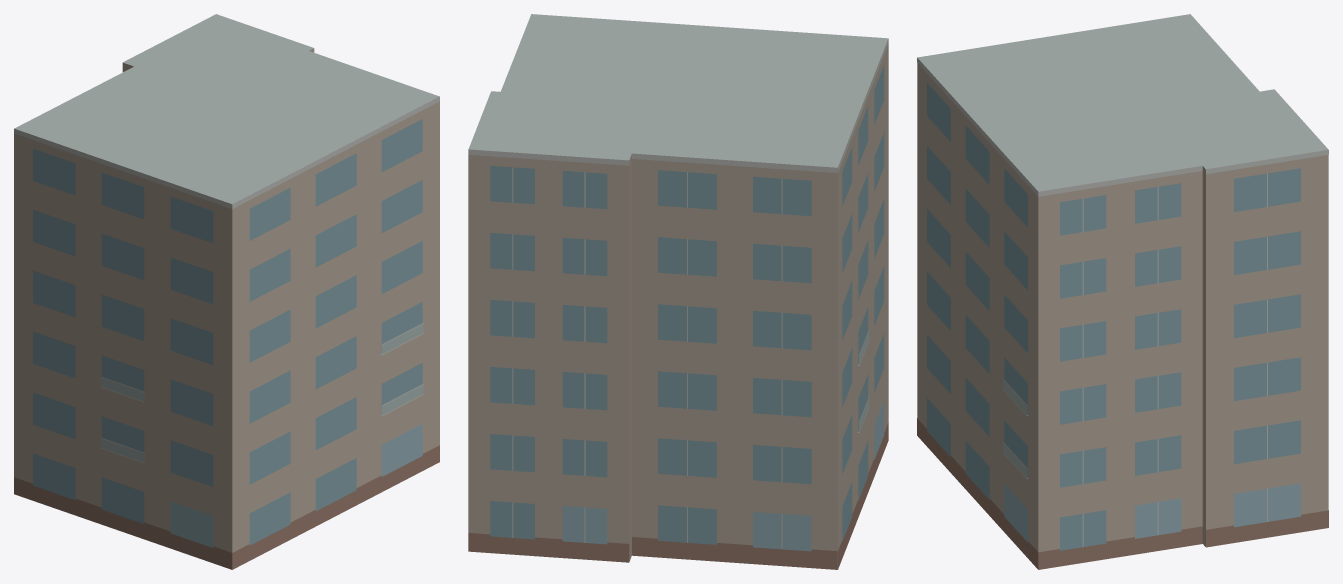
File: survey-upis-32705108.glb
The picture shows the model from 3 angles, left to right: view 1: azimuth 30°, elevation 25°; view 2: azimuth 150°, elevation 25°; view 3: azimuth 270°, elevation 25°; orthographic projection. The views are drawn at different scales.
Parts seen in each view (by area): view 1: survey-upis-32705108.tmp; view 2: survey-upis-32705108.tmp; view 3: survey-upis-32705108.tmp.
Part boxes in pixels (left/top/right/bottom): survey-upis-32705108.tmp: left=14, top=14, right=439, bottom=569; survey-upis-32705108.tmp: left=468, top=14, right=888, bottom=569; survey-upis-32705108.tmp: left=917, top=14, right=1328, bottom=569.
Size of the model in its own units: 18.66 by 18.5 by 18.26.
